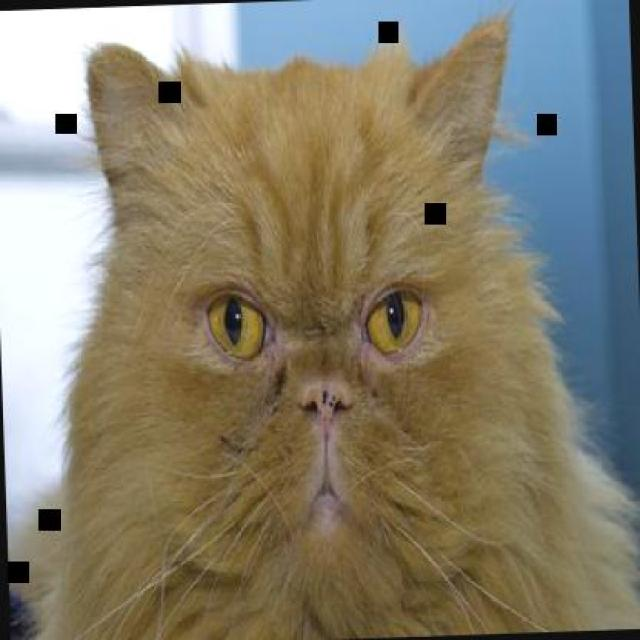cat: (23, 17, 639, 638)
